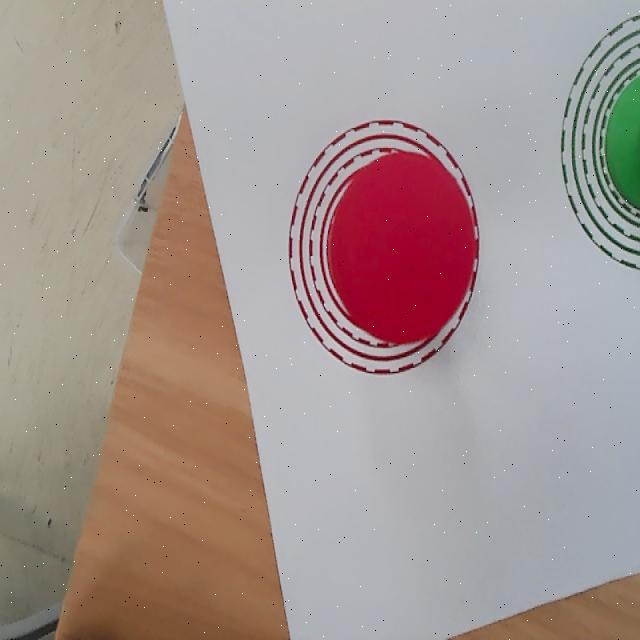r: (332, 152, 475, 342)
